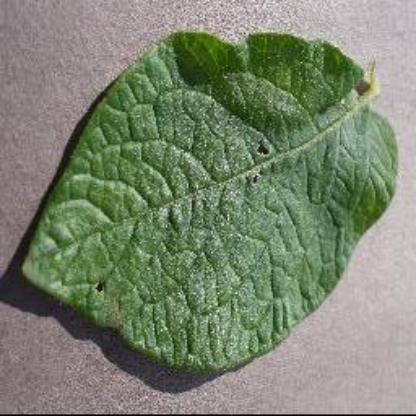Healthy-plant: (19, 24, 403, 392)
